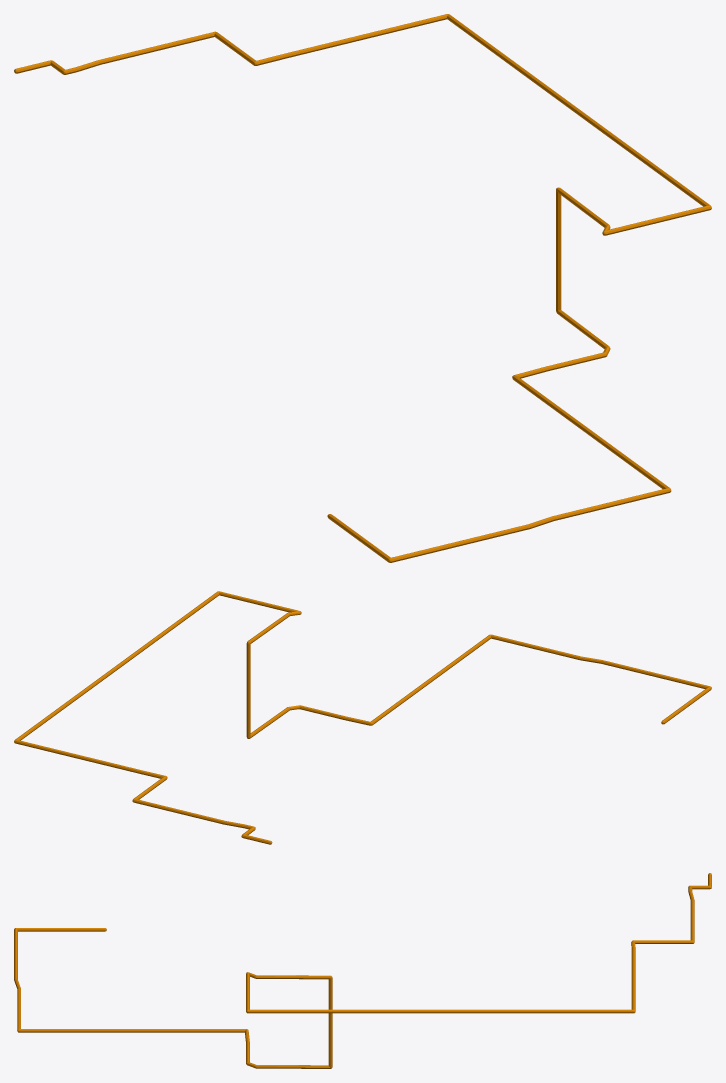
The picture shows the model from 3 angles, top to bottom: view 1: azimuth 30°, elevation 25°; view 2: azimuth 150°, elevation 25°; view 3: azimuth 270°, elevation 25°; orthographic projection. The views are drawn at different scales.
Bounding box in the file's own units: 2071 × 520 × 3528.
